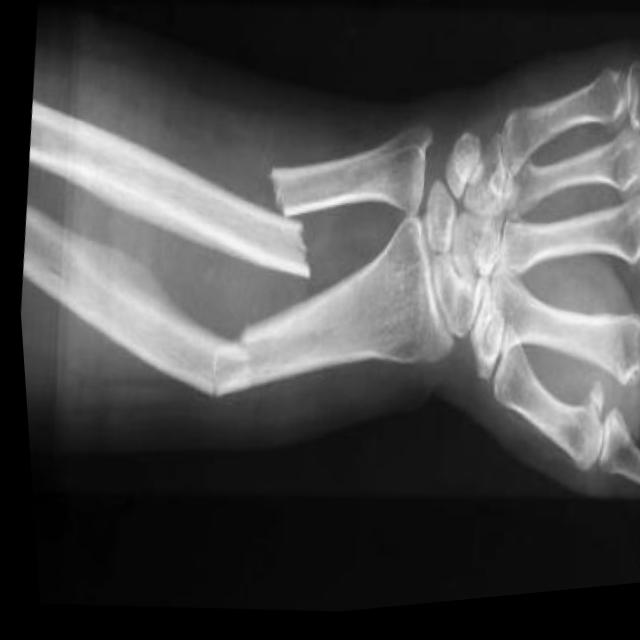fracture: (246, 160, 338, 301), (187, 319, 265, 429)
